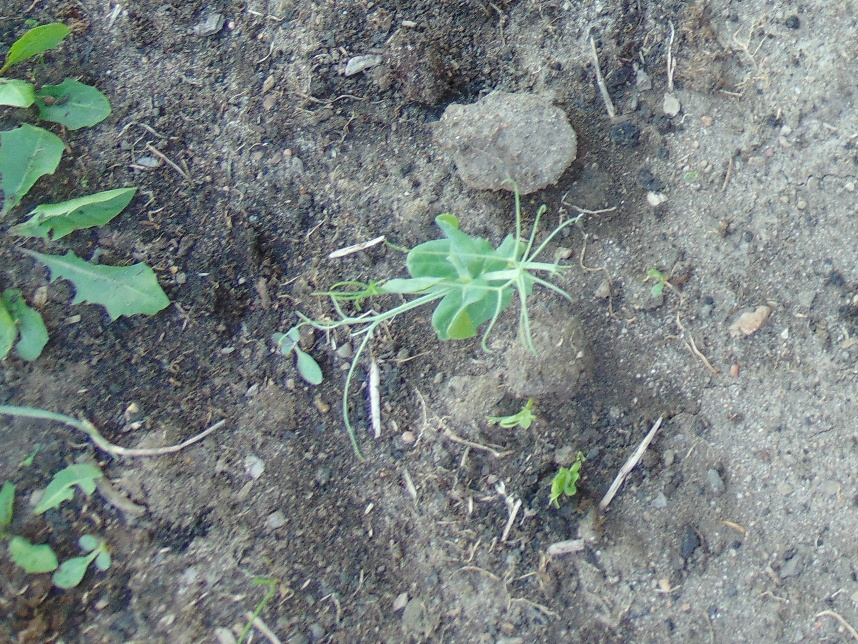crop: (321, 194, 580, 368), (484, 395, 538, 435), (546, 460, 590, 508)
weed: (1, 121, 169, 362), (1, 23, 111, 130), (1, 475, 56, 577), (31, 460, 99, 514), (52, 534, 112, 592)
